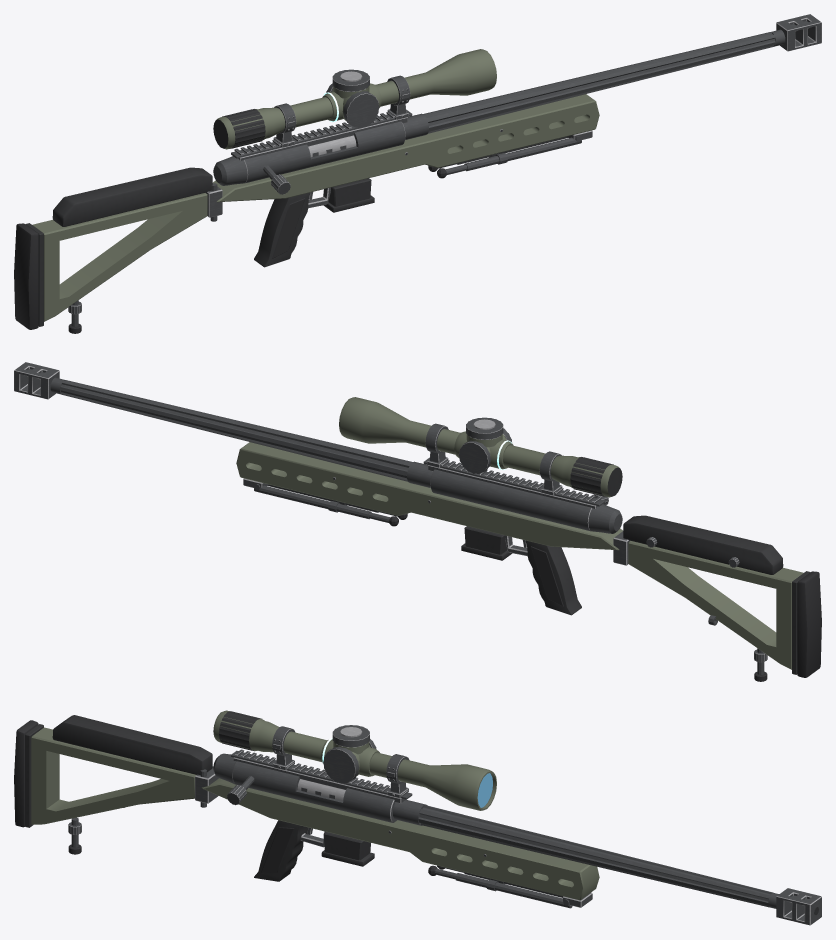
File: w_sniper.glb
3 views of the same model, one above another, from view 1: azimuth 30°, elevation 25°; view 2: azimuth 150°, elevation 25°; view 3: azimuth 330°, elevation 25° (orthographic).
Visible parts, largest first — view 1: W_sniper; view 2: W_sniper; view 3: W_sniper.
Boxes of the visible parts, x1=… form: W_sniper: x1=14, y1=14, x2=821, y2=333; W_sniper: x1=14, y1=362, x2=821, y2=681; W_sniper: x1=14, y1=710, x2=821, y2=925.
Size of the model in its own units: 1.26 by 0.2835 by 0.1023.
Materials: 7 (3 with a texture image).
